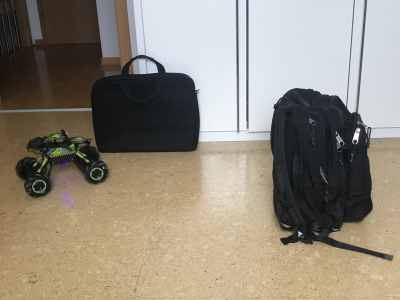remote control car: (12, 123, 109, 201)
